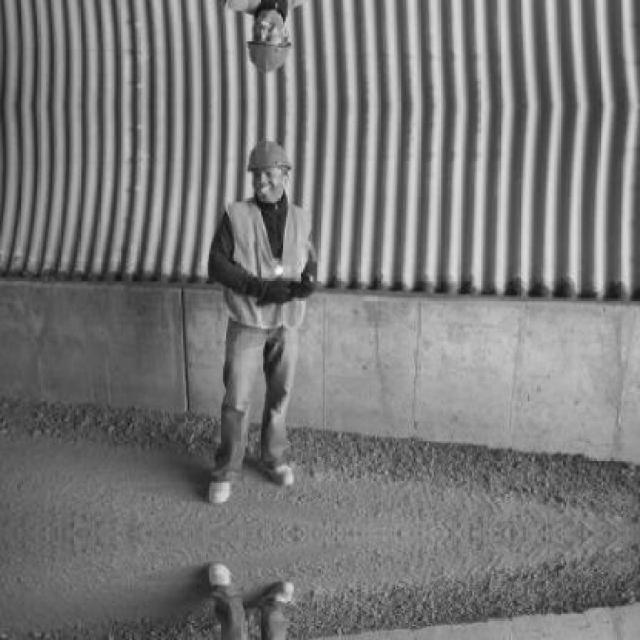helmet: (240, 132, 295, 205), (240, 9, 295, 82)
